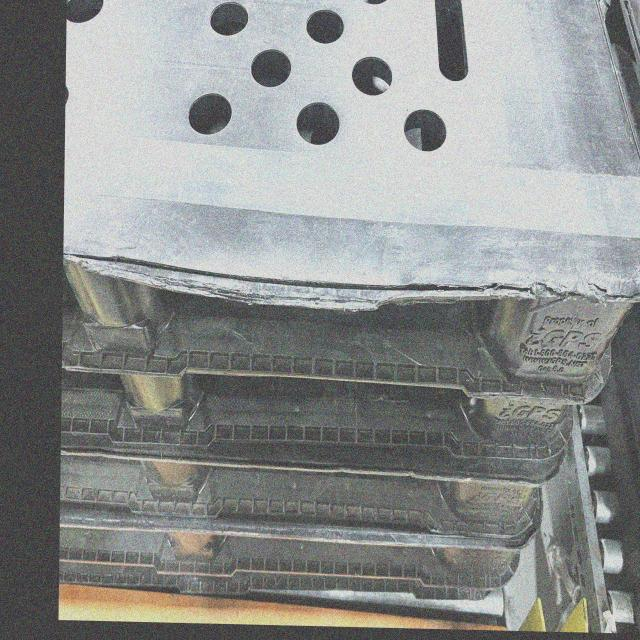igps: (47, 0, 640, 404), (41, 356, 578, 491), (56, 442, 550, 548), (52, 518, 524, 618)
